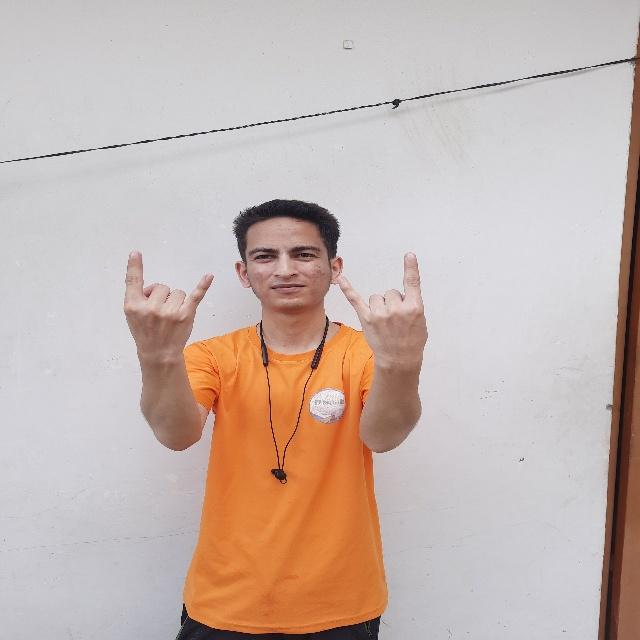Corna: (115, 240, 220, 368), (328, 247, 436, 371)
